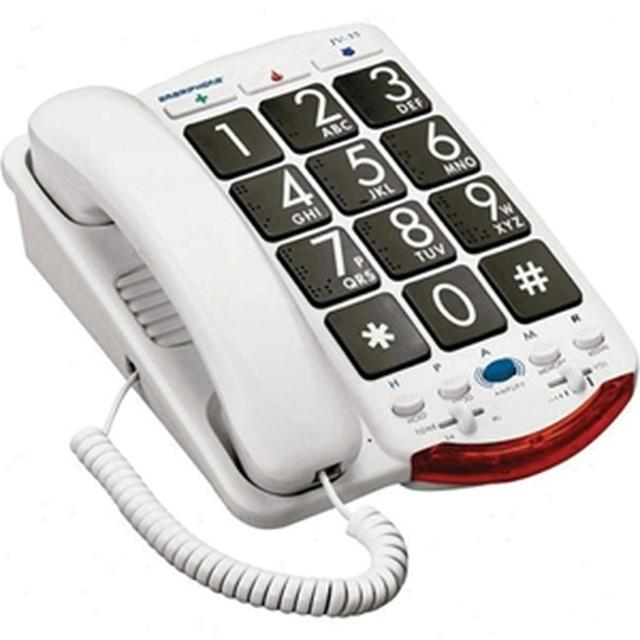Telephone-Set: (6, 11, 640, 616)
